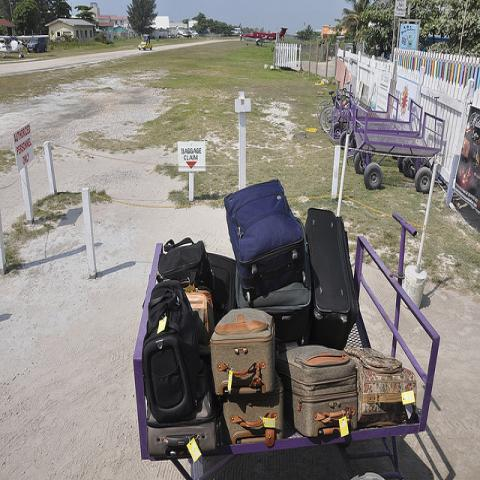car: (27, 39, 48, 54), (138, 38, 153, 50)
